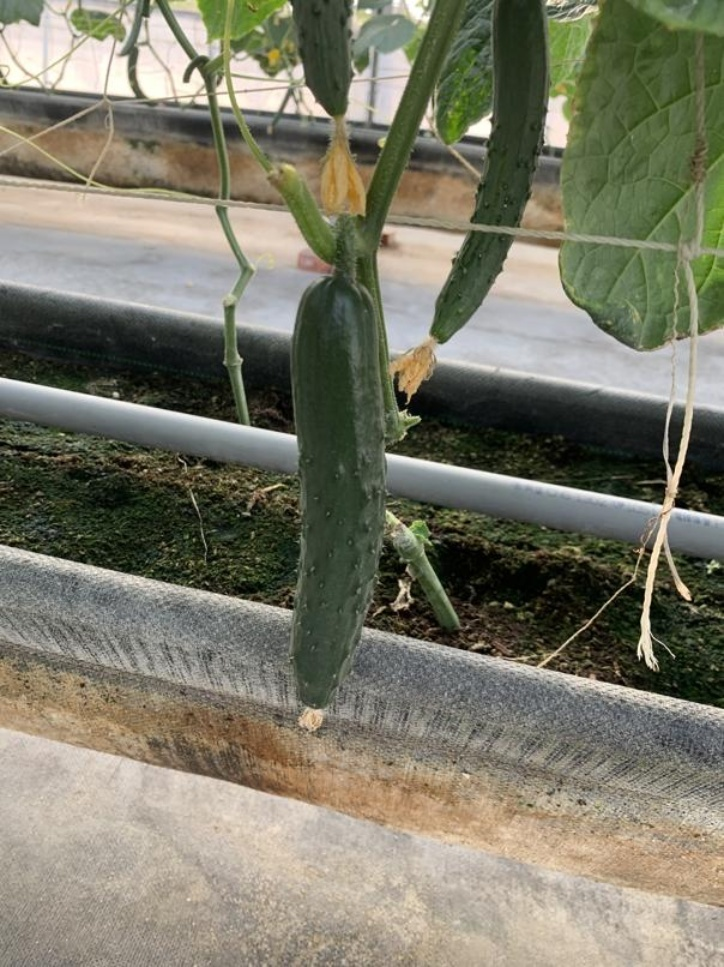mature: (273, 274, 400, 712), (424, 1, 554, 340)
